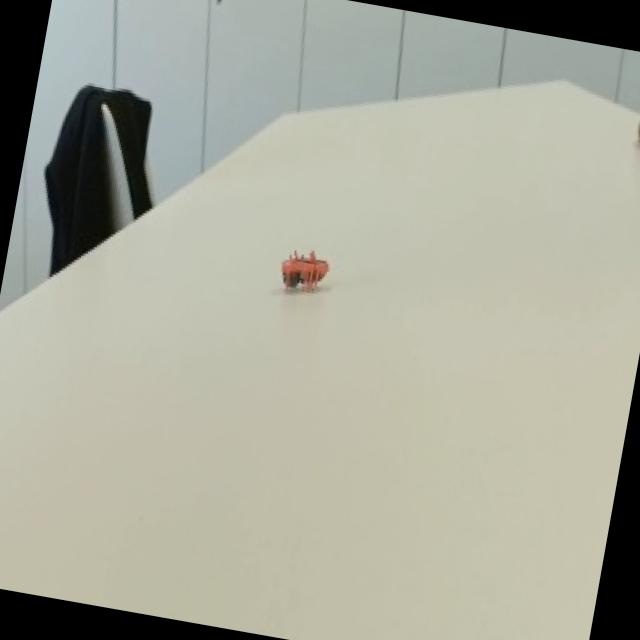7_NanoBug_Naranja: (264, 234, 346, 318)
